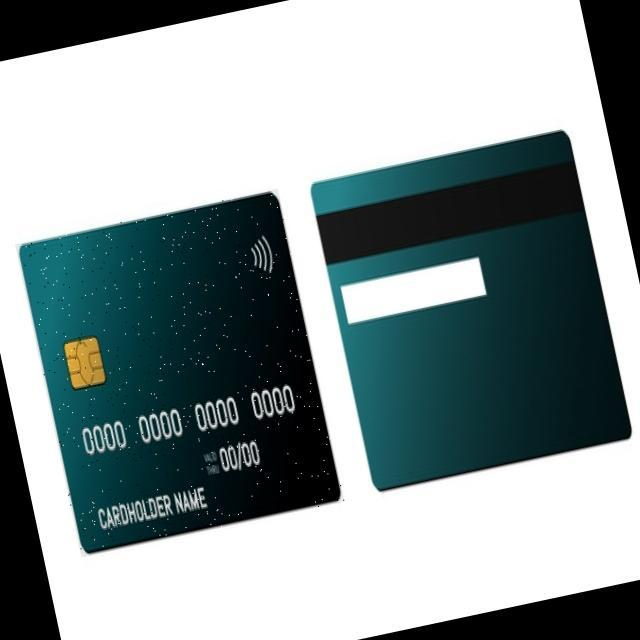payment_card: (16, 189, 342, 553)
